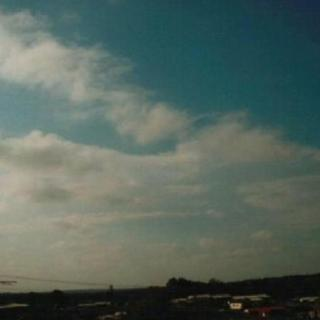Stratus: (0, 1, 320, 272)
